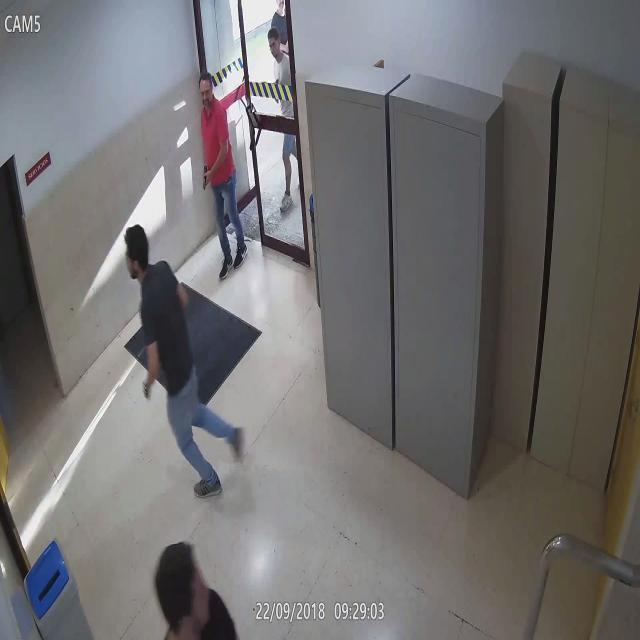weapon: (139, 381, 153, 401), (200, 167, 210, 191)
